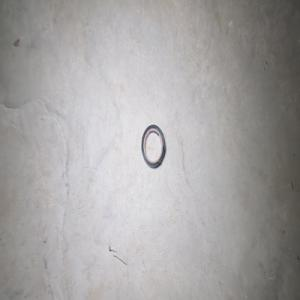Tape: (141, 124, 165, 168)
